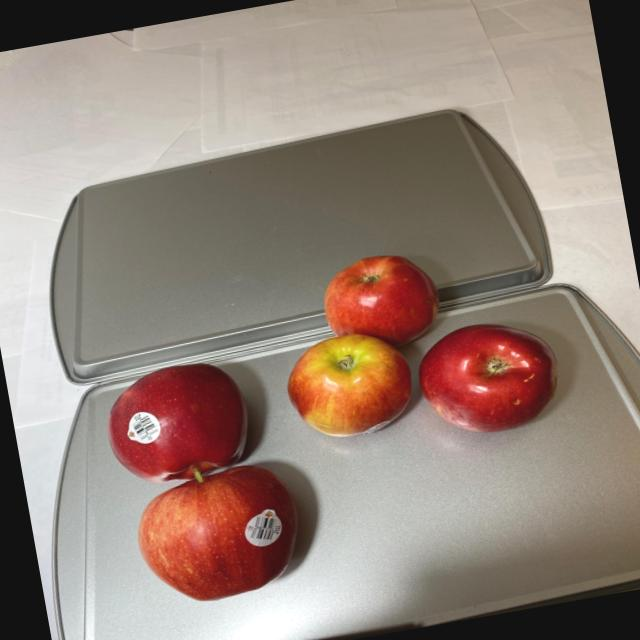apple: (266, 224, 575, 466), (88, 344, 313, 618)
